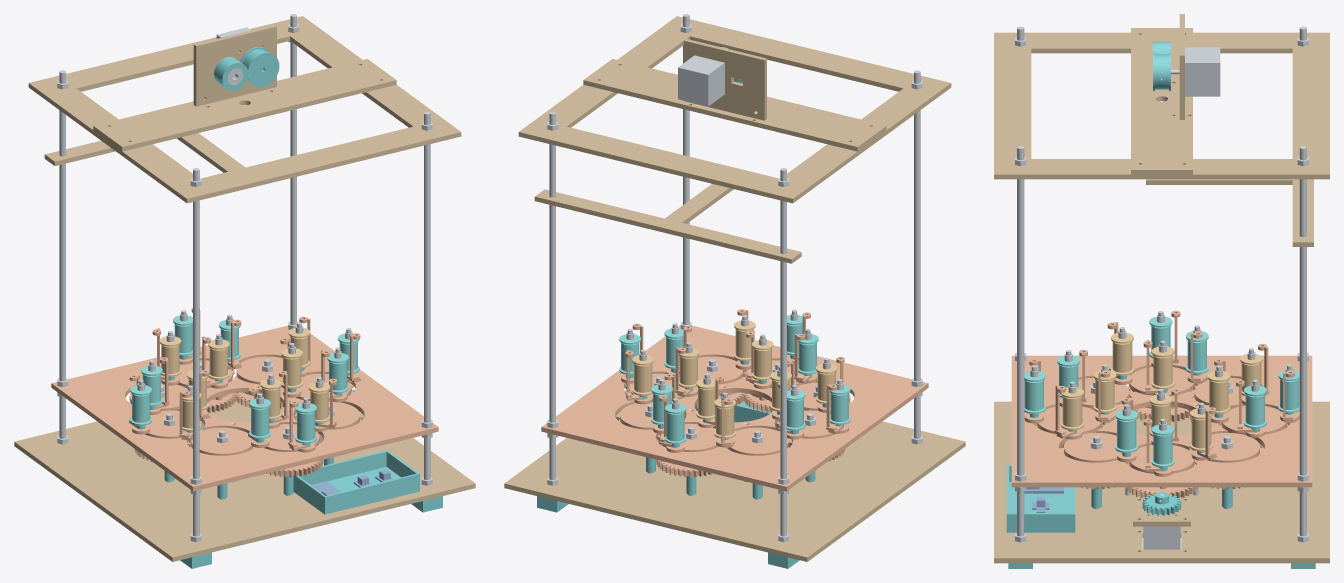
File: braidbench-16.glb
3 views of the same model, side by side, from view 1: azimuth 30°, elevation 25°; view 2: azimuth 150°, elevation 25°; view 3: azimuth 270°, elevation 25° (orthographic). The views are drawn at different scales.
Visible parts, largest first — view 1: 01 / Foundation, 04 / Track plate + supported islands, 08 / Upper frame, 09 / Take-up bridge, 02 / Threaded mast (×4), 13 / Control tray, 10 / Motor and idler face, 07 / Forming eye support, 11 / Driven capstan, 12 / Adjustable idler; view 2: 01 / Foundation, 04 / Track plate + supported islands, 08 / Upper frame, 02 / Threaded mast (×4), 09 / Take-up bridge, 07 / Forming eye support, 10 / Motor and idler face, Take-up motor; view 3: 04 / Track plate + supported islands, 01 / Foundation, 08 / Upper frame, 09 / Take-up bridge, 02 / Threaded mast (×2), 13 / Control tray, 07 / Forming eye support, Take-up motor, Drive motor riser, Drive motor, 20T drive pinion, 11 / Driven capstan (+16 smaller).
Part boxes in pixels (x1,y1,x2,y2): 01 / Foundation: (14, 401, 475, 561); 04 / Track plate + supported islands: (51, 325, 438, 491); 08 / Upper frame: (28, 16, 461, 203); 09 / Take-up bridge: (93, 59, 396, 151); 02 / Threaded mast (×4): (59, 14, 430, 536); 13 / Control tray: (293, 450, 419, 514); 10 / Motor and idler face: (193, 25, 276, 106); 07 / Forming eye support: (44, 133, 245, 172); 11 / Driven capstan: (240, 47, 279, 86); 12 / Adjustable idler: (214, 57, 247, 90); 01 / Foundation: (504, 421, 965, 561); 04 / Track plate + supported islands: (541, 325, 928, 491); 08 / Upper frame: (518, 16, 951, 203); 02 / Threaded mast (×4): (549, 14, 920, 536); 09 / Take-up bridge: (583, 59, 886, 151); 07 / Forming eye support: (534, 184, 801, 263); 10 / Motor and idler face: (683, 39, 766, 120); Take-up motor: (678, 55, 724, 106); 04 / Track plate + supported islands: (1011, 355, 1312, 487); 01 / Foundation: (994, 401, 1329, 563); 08 / Upper frame: (994, 32, 1329, 179); 09 / Take-up bridge: (1131, 28, 1192, 174); 02 / Threaded mast (×2): (1017, 146, 1306, 536); 13 / Control tray: (1006, 465, 1075, 532); 07 / Forming eye support: (1146, 179, 1313, 246); Take-up motor: (1171, 47, 1220, 96); Drive motor riser: (1133, 497, 1190, 526); Drive motor: (1143, 494, 1180, 549); 20T drive pinion: (1142, 492, 1181, 515); 11 / Driven capstan: (1153, 52, 1170, 91).
Bounding box in the file's own units: 0.42 × 0.586 × 0.38.
